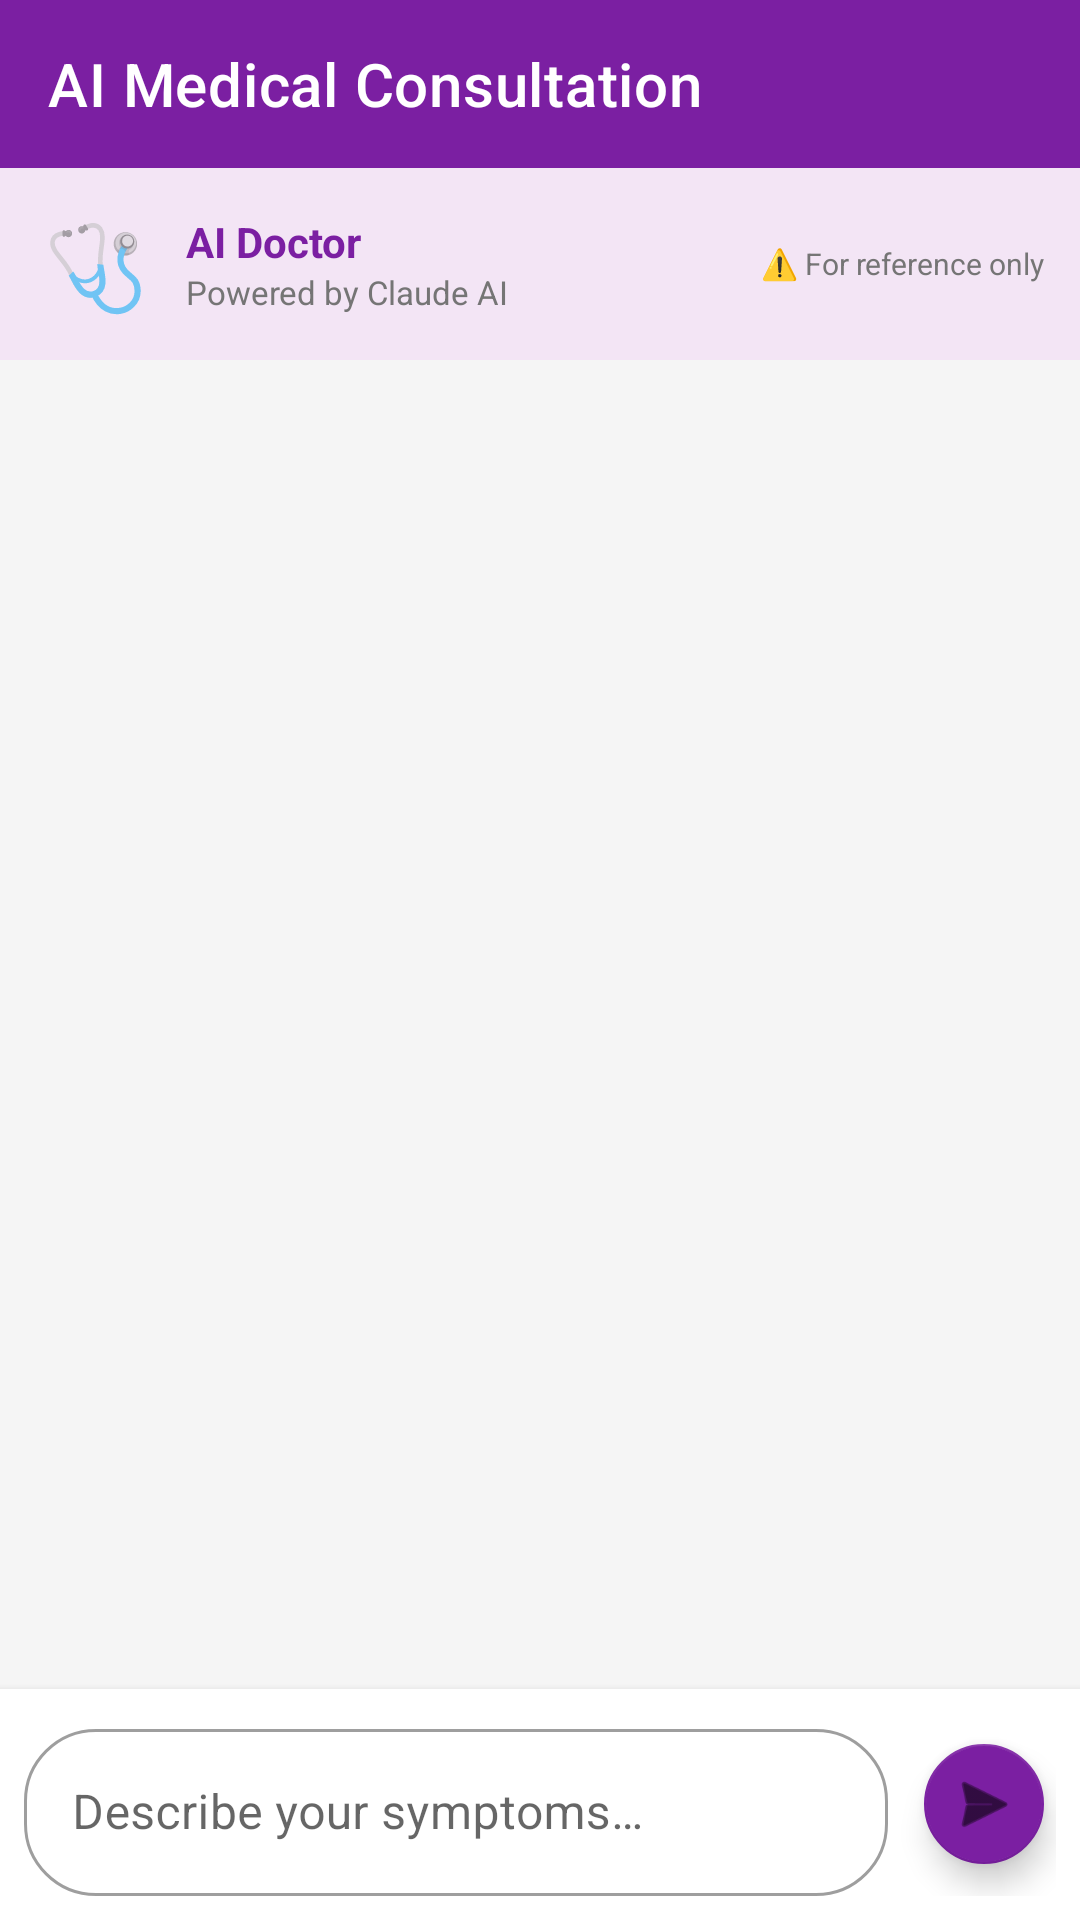

Locate icon controls on the screen. Image size 1080px×1920px, boxes as (x1, y1, x2, y2).
send: (924, 1744, 1047, 1876)
